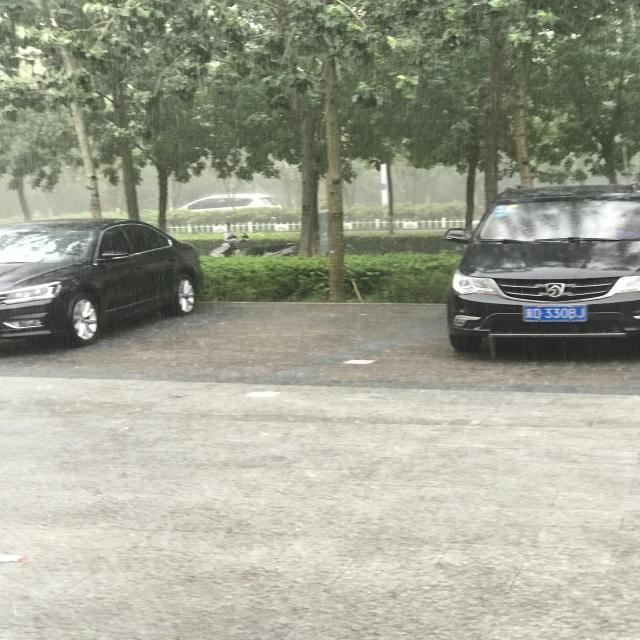car: (183, 2, 361, 198), (216, 430, 346, 640)
